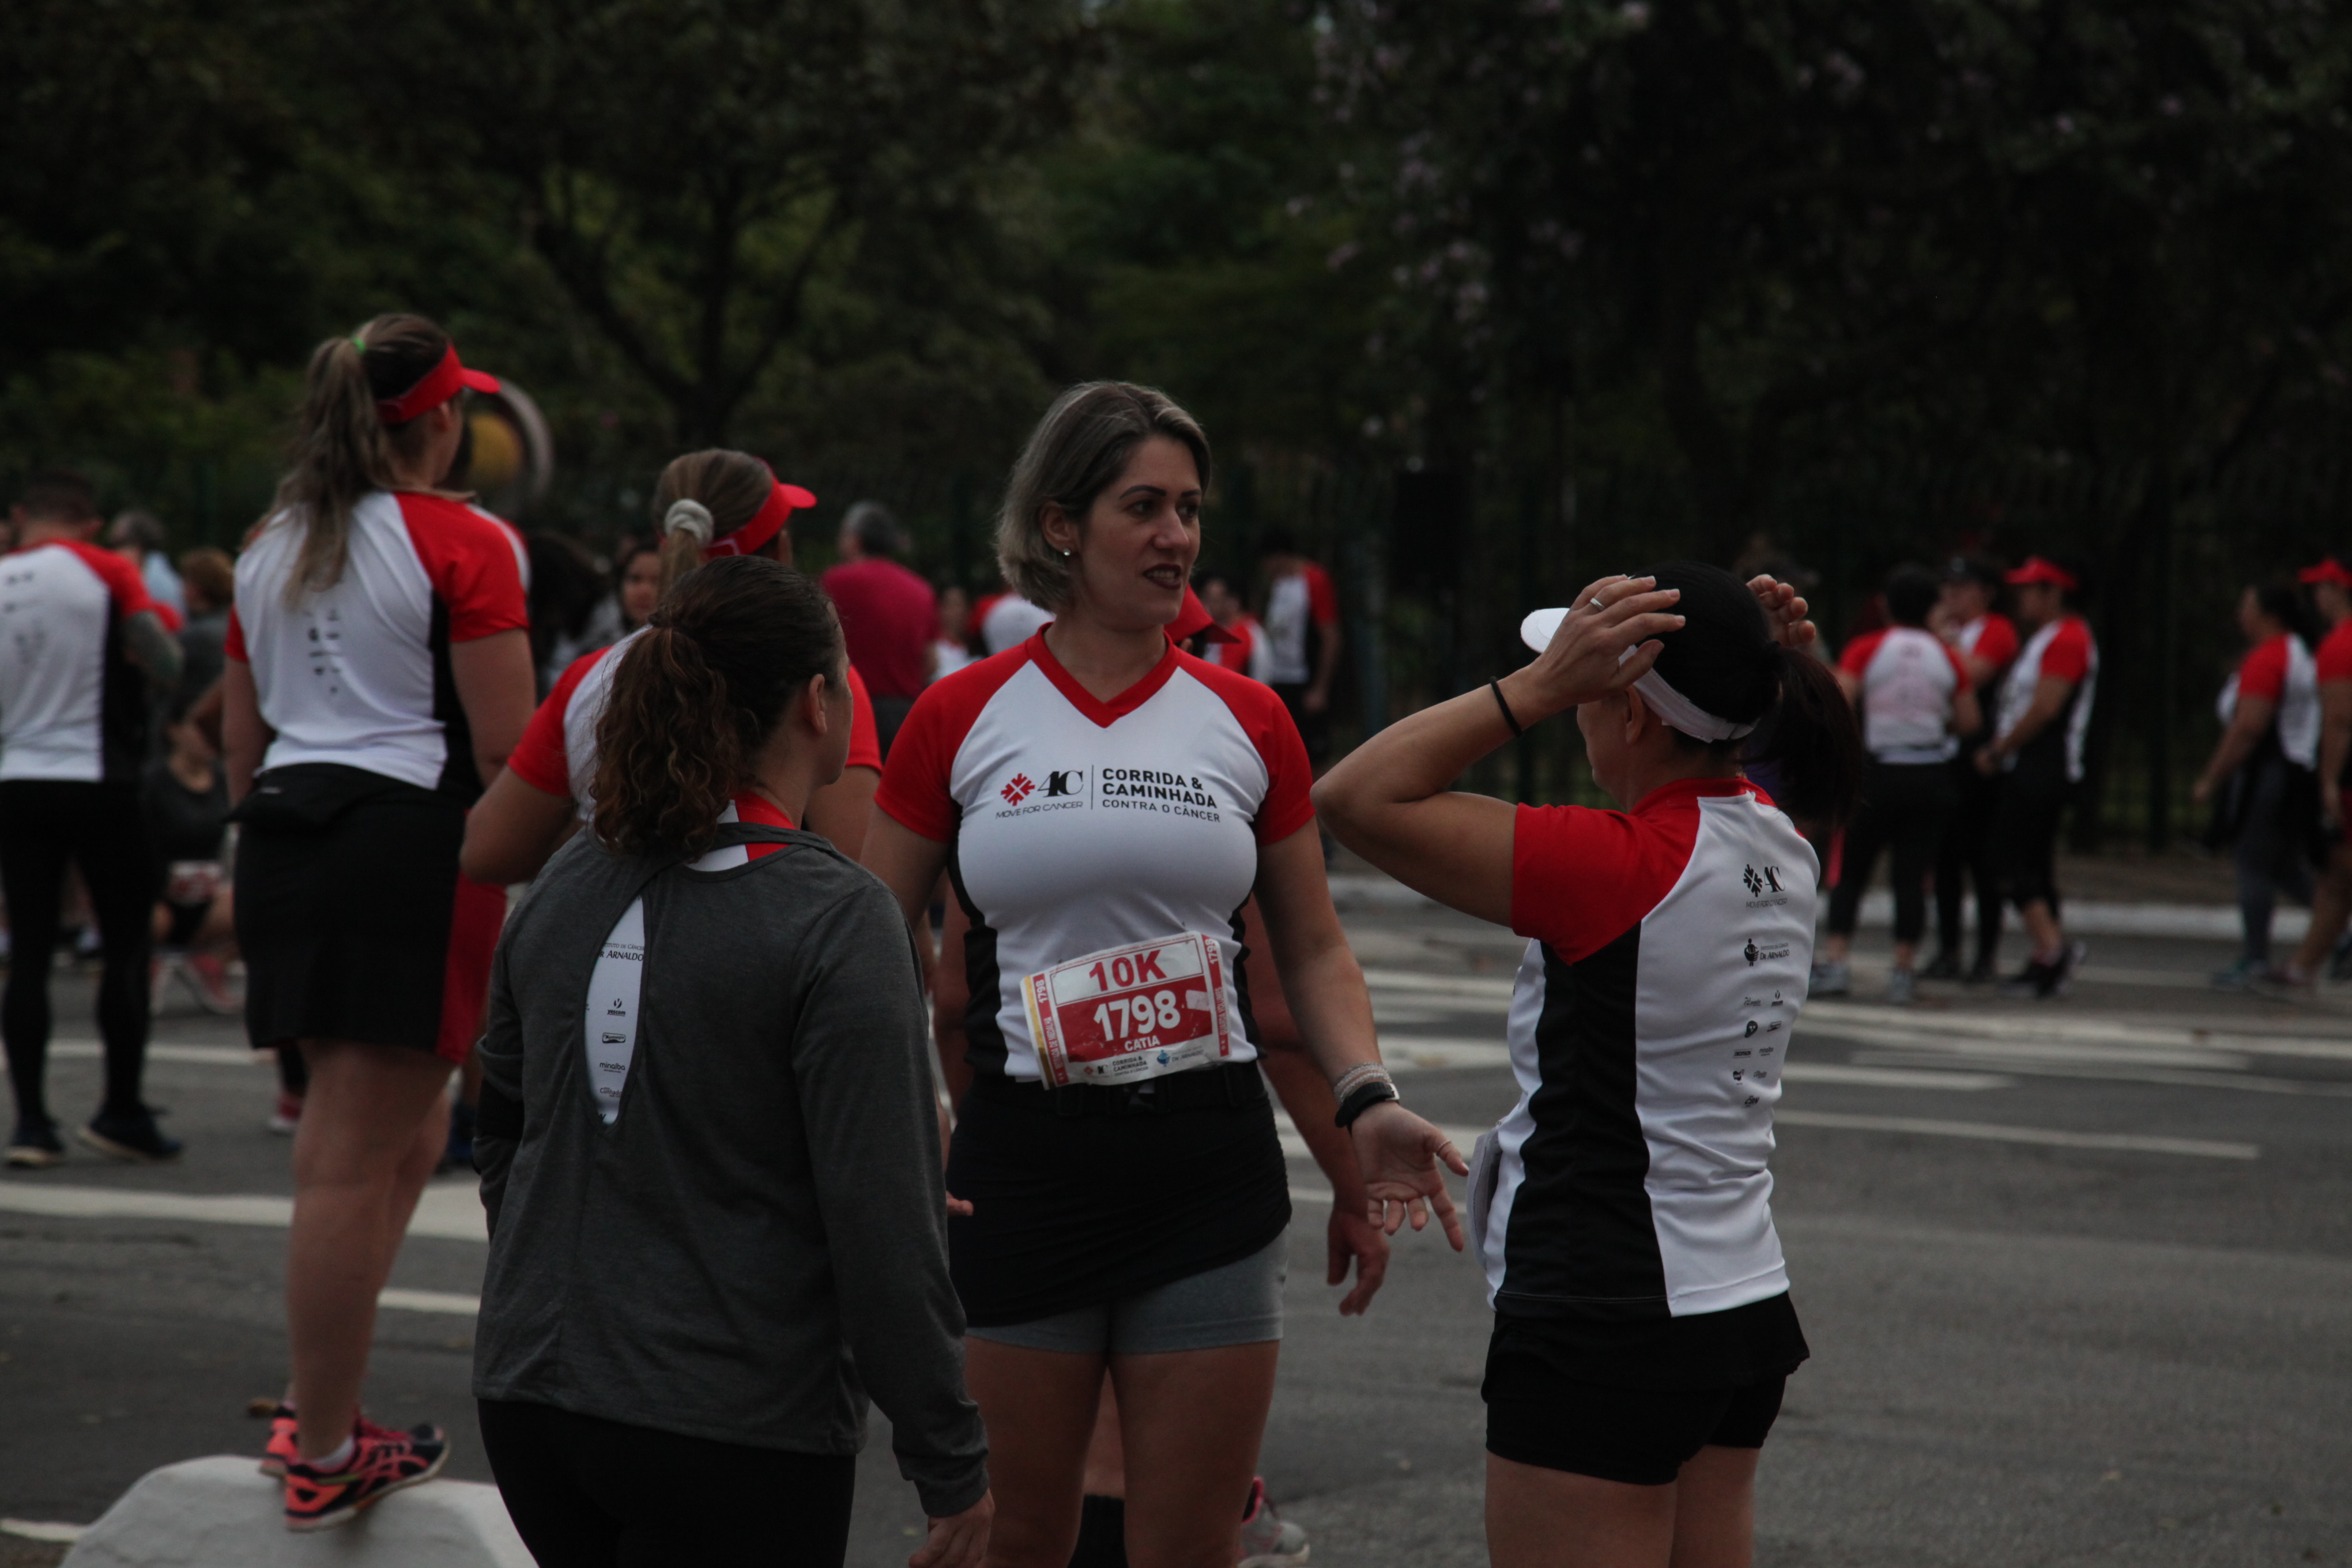bibtag: (1004, 920, 1241, 1125)
